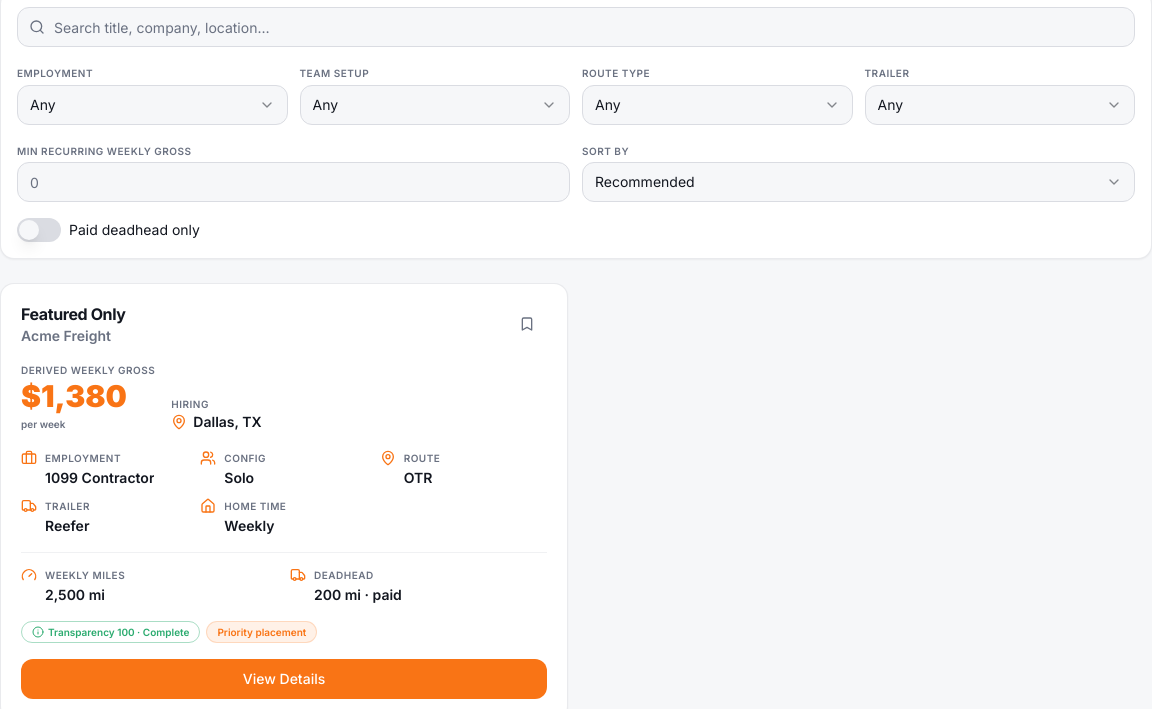
Test case: Phase 1L-F2C · Trust separation — featured only › 10. Featured with no approved active recruiter renders Priority placement on card and detail; never Verified Recruiter
(page scrolled)
Expected: the text "Priority placement" is shown, [206,621,317,643]
Step 1. Click the button "View Details" → (284, 679), box [21,659,547,699]
(page scrolled)
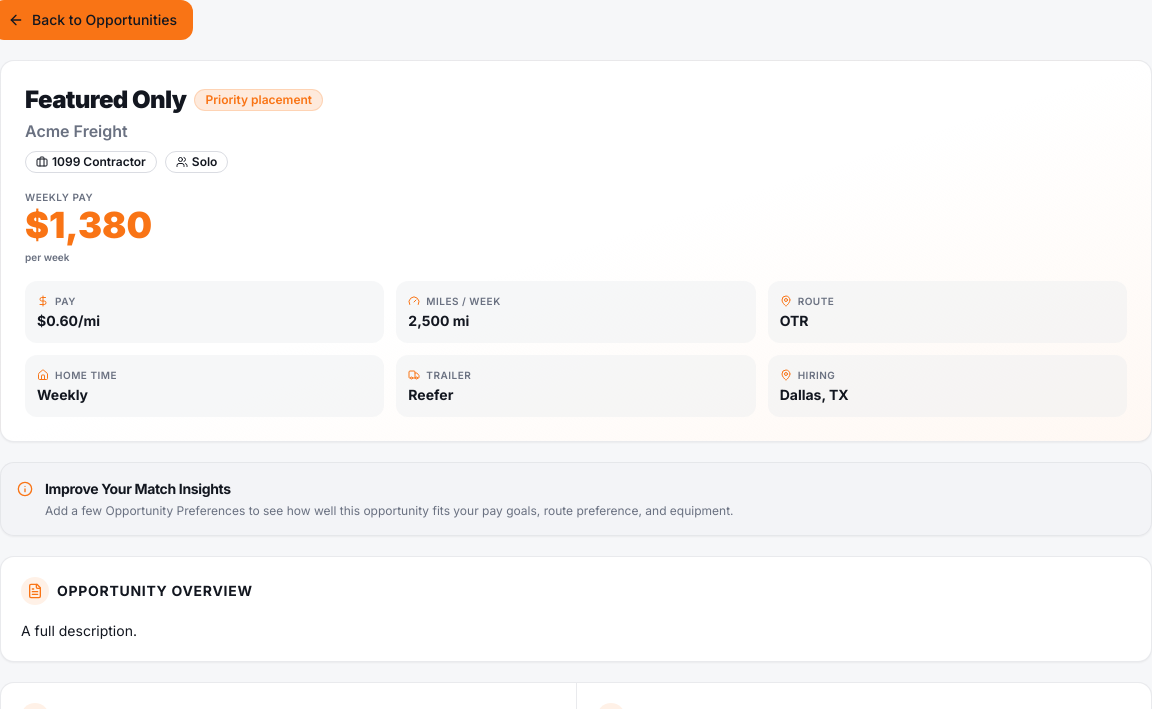
Expected: the text "Priority placement" is shown, [194,89,323,111]
Result: the heading "Featured Only" is shown at [25,85,186,115]
